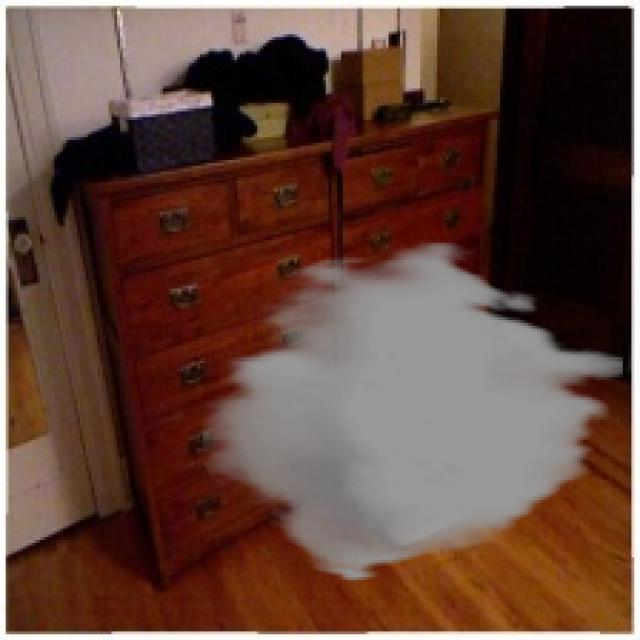smoke: (203, 240, 623, 583)
